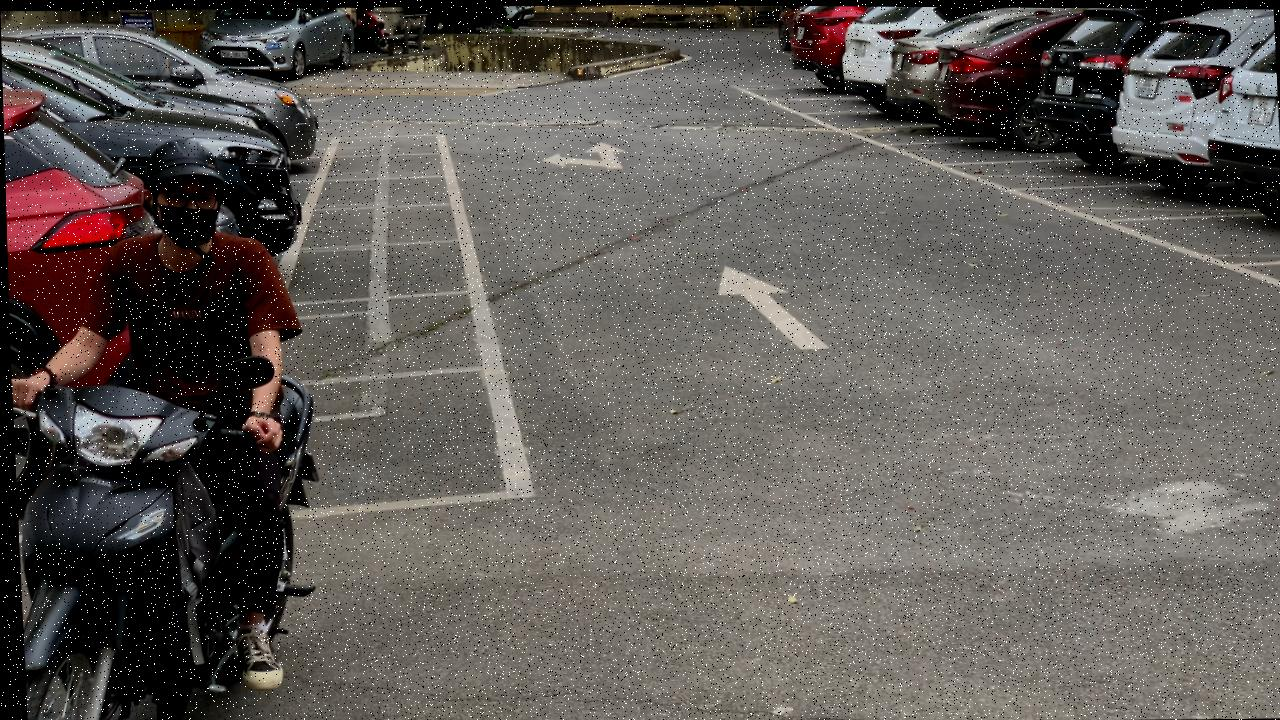helmet: (137, 136, 222, 185)
motorcyclist: (3, 129, 328, 720)
